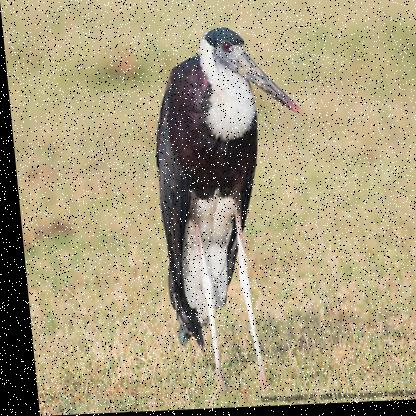Burung: (140, 28, 323, 395)
